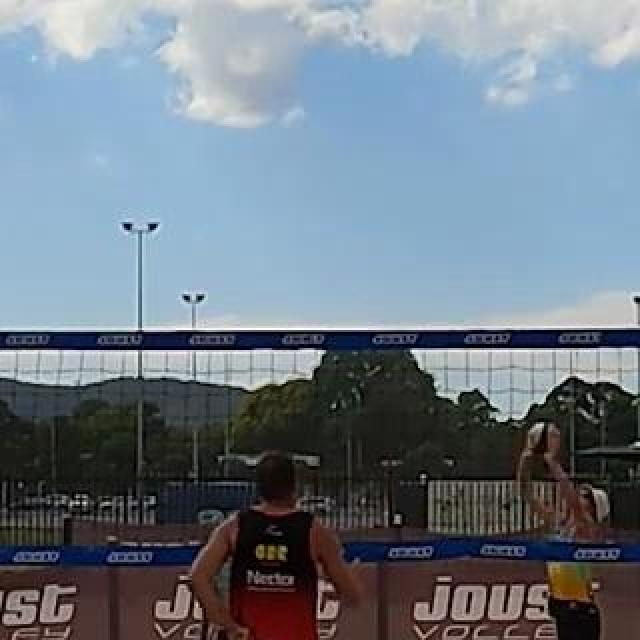volleyball: (526, 420, 560, 456)
